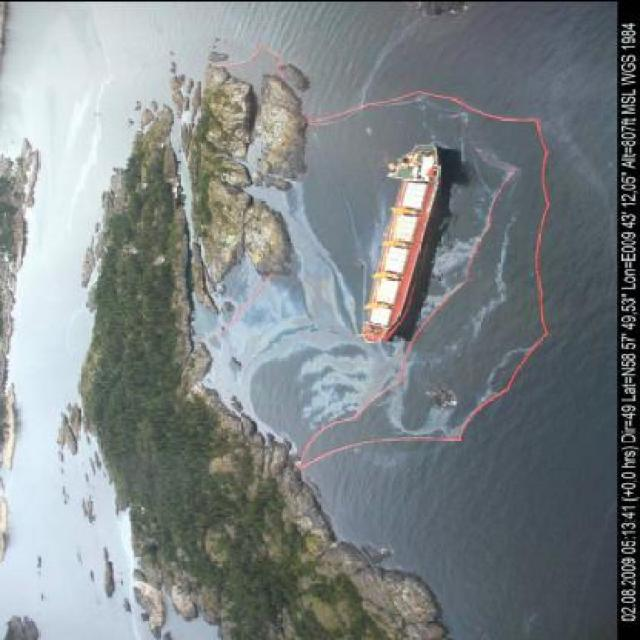sheen: (208, 182, 395, 445)
